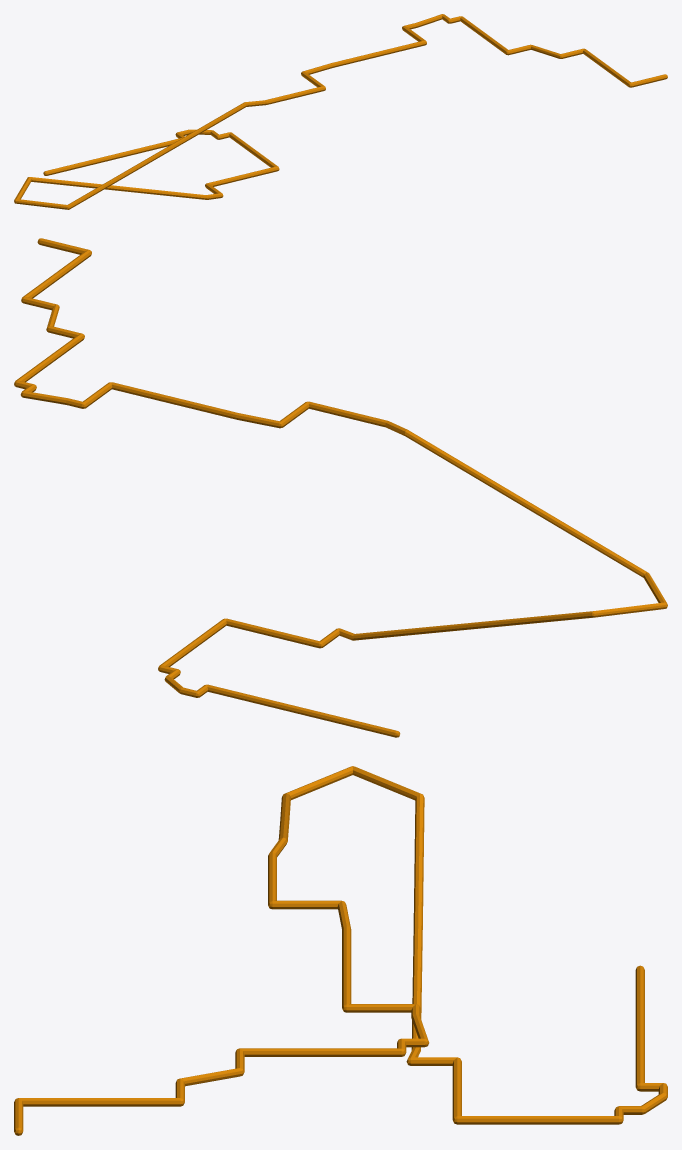
3 renders of one model, top to bottom at view 1: azimuth 30°, elevation 25°; view 2: azimuth 150°, elevation 25°; view 3: azimuth 270°, elevation 25°, orthographic. The views are drawn at different scales.
Size of the model in its own units: 2406 by 520 by 1415.
